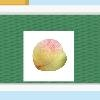half-ripe: (32, 38, 67, 73)
